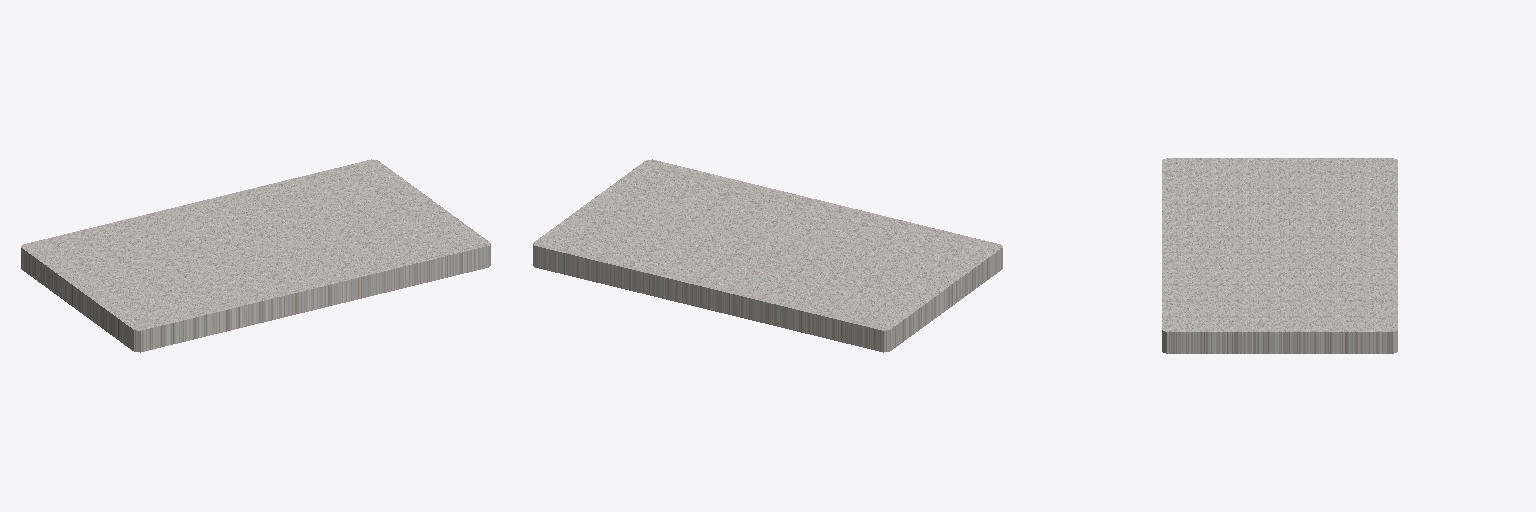
3 renders of one model, left to right at view 1: azimuth 30°, elevation 25°; view 2: azimuth 150°, elevation 25°; view 3: azimuth 270°, elevation 25°, orthographic.
Bounding box in the file's own units: 3.77 × 0.219 × 2.16.
1 materials, 1 textured.